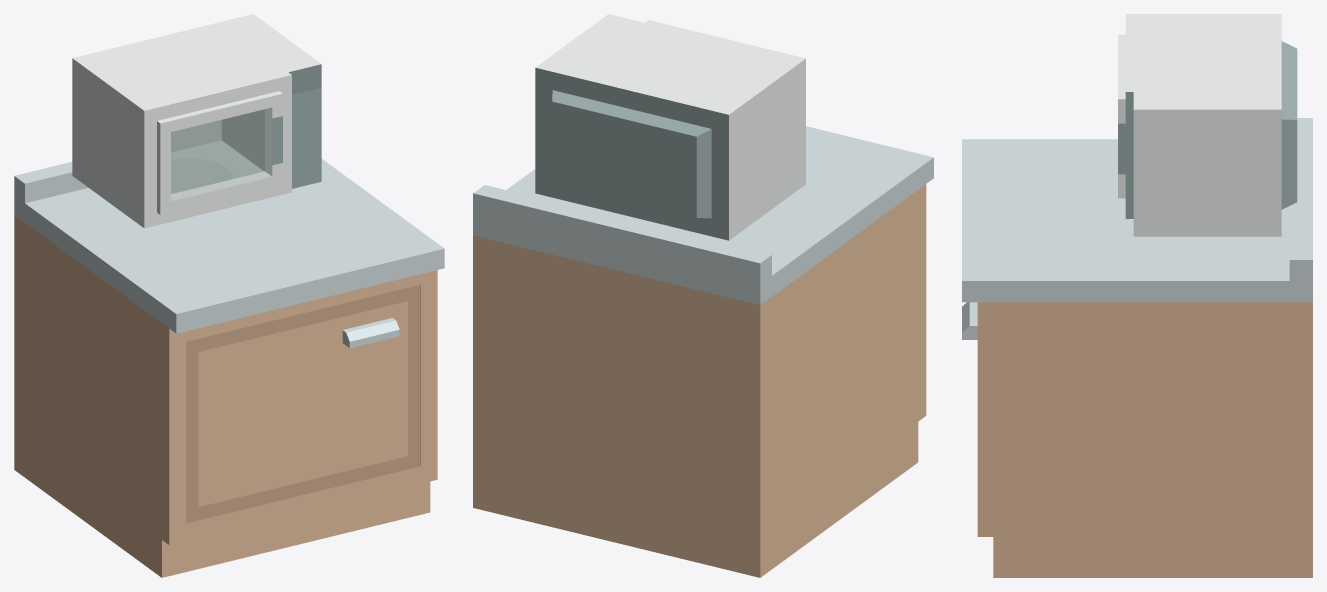
File: microwaveCounter.glb
3 views of the same model, side by side, from view 1: azimuth 30°, elevation 25°; view 2: azimuth 150°, elevation 25°; view 3: azimuth 270°, elevation 25° (orthographic). The views are drawn at different scales.
Visible parts, largest first — view 1: kitchenCabinet(Clone), kitchenMicrowave(Clone), door, Group; view 2: kitchenCabinet(Clone), kitchenMicrowave(Clone); view 3: kitchenCabinet(Clone), kitchenMicrowave(Clone).
Part boxes in pixels (x1=…): kitchenCabinet(Clone): x1=14, y1=159, x2=444, y2=577; kitchenMicrowave(Clone): x1=72, y1=14, x2=321, y2=228; door: x1=186, y1=284, x2=420, y2=523; Group: x1=171, y1=107, x2=272, y2=200; kitchenCabinet(Clone): x1=473, y1=126, x2=933, y2=577; kitchenMicrowave(Clone): x1=535, y1=14, x2=805, y2=240; kitchenCabinet(Clone): x1=962, y1=118, x2=1312, y2=577; kitchenMicrowave(Clone): x1=1118, y1=14, x2=1297, y2=236.
Size of the model in its own units: 0.43 by 0.63 by 0.45.
